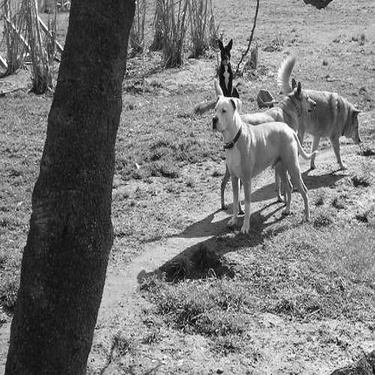dog: (210, 95, 322, 244), (200, 75, 320, 213), (278, 52, 363, 176), (214, 34, 242, 101)
